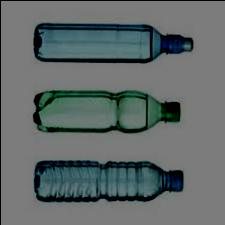Plastic: (32, 160, 187, 204), (34, 24, 195, 65), (33, 89, 183, 132)
